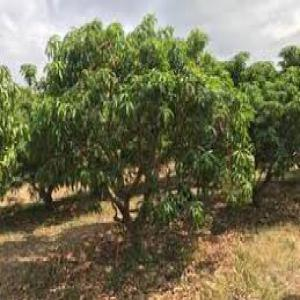Tree: (39, 15, 254, 240)
